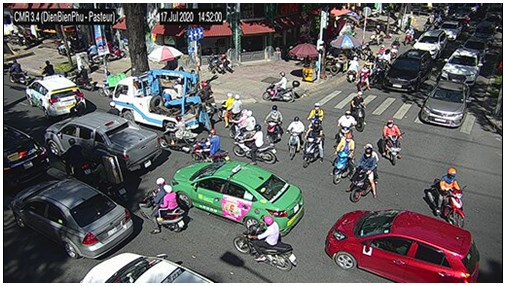xe_hoi: (324, 209, 480, 282), (12, 178, 134, 261), (44, 111, 161, 173), (420, 80, 470, 127), (385, 49, 433, 93), (438, 47, 483, 86), (414, 29, 446, 59), (464, 34, 489, 57), (440, 21, 462, 42)
xe_may: (233, 216, 298, 272), (138, 177, 184, 233), (425, 167, 465, 227), (232, 123, 278, 165), (92, 155, 129, 205), (348, 143, 379, 202), (160, 116, 197, 153), (190, 128, 230, 162), (60, 138, 92, 180), (333, 132, 355, 188), (380, 119, 405, 166), (302, 120, 325, 167), (262, 71, 294, 102), (285, 116, 305, 159), (262, 105, 283, 144), (229, 109, 256, 138), (336, 110, 357, 145), (217, 92, 242, 121), (350, 91, 367, 133), (99, 70, 123, 97), (197, 81, 216, 113), (73, 65, 94, 91), (9, 60, 30, 85), (306, 102, 324, 128), (357, 61, 372, 91), (374, 56, 385, 87), (347, 57, 359, 84), (40, 59, 55, 76), (403, 25, 414, 46), (389, 38, 399, 59)
xe_tai: (109, 69, 201, 130)
xe_taxi: (172, 161, 304, 234), (80, 253, 216, 283), (26, 75, 86, 117)
